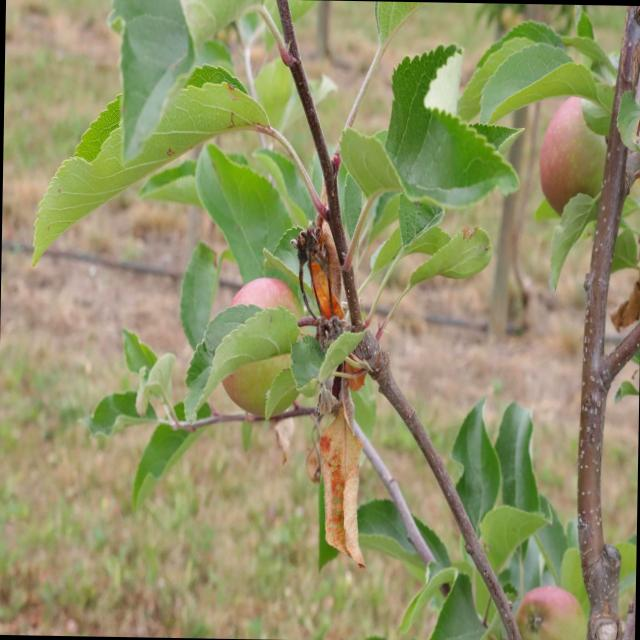-FireBlight-: (287, 216, 373, 570)
